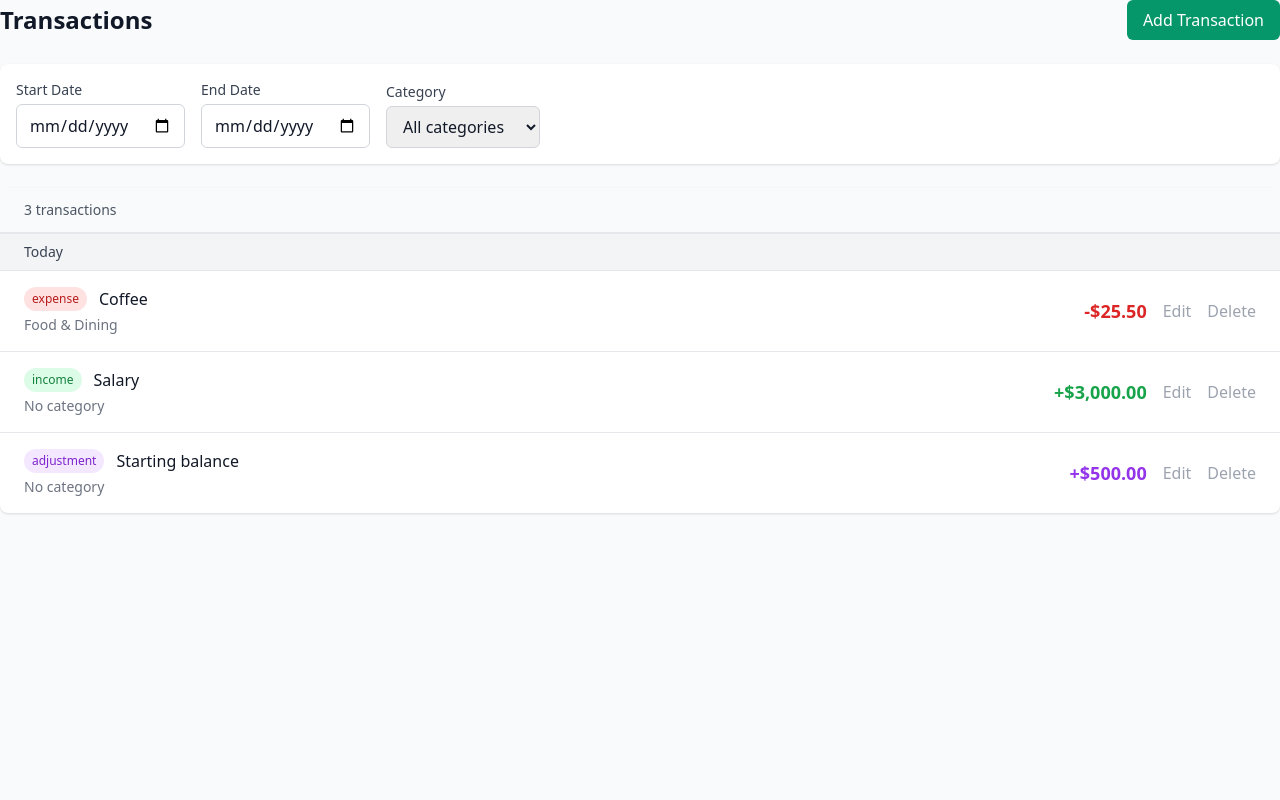
Test: TransactionsPage › opens add transaction form when clicking add button
Click the button "Add Transaction": [1203, 20] box [1127,0,1279,40]
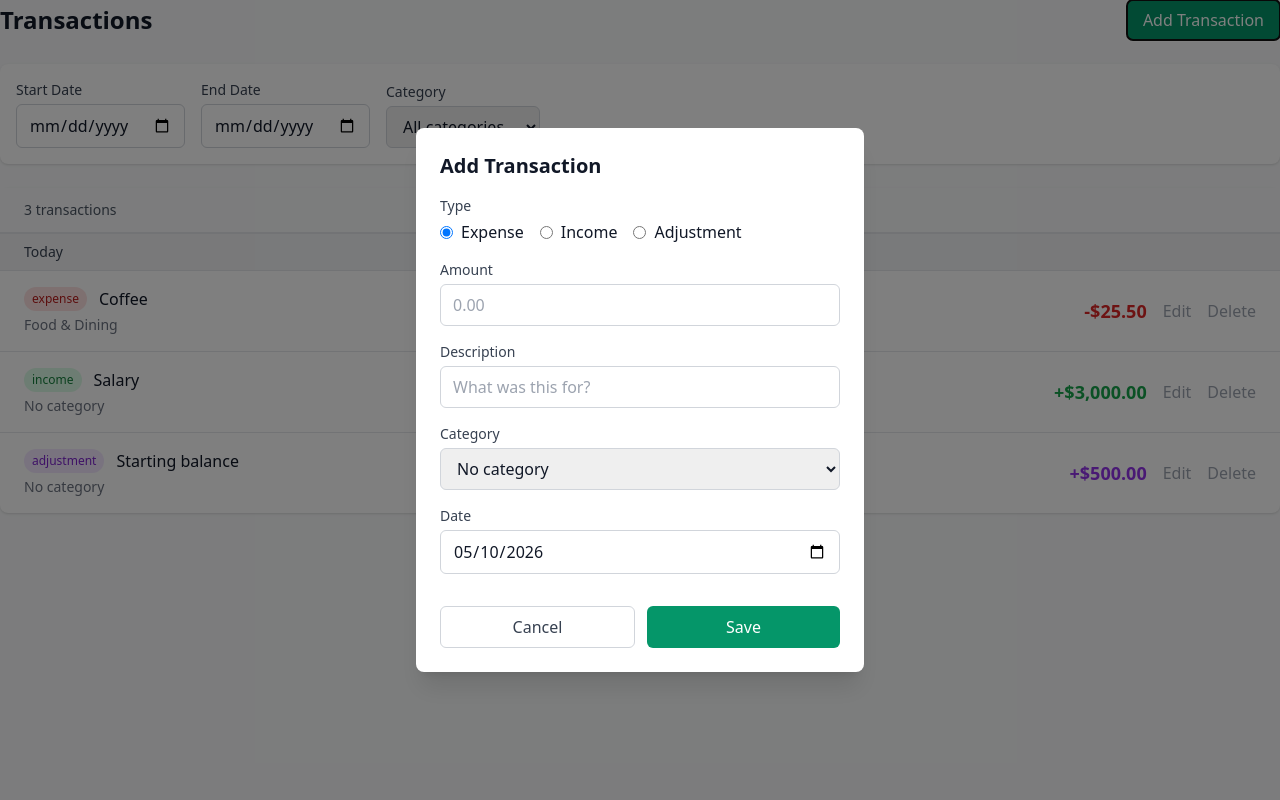
Check: the number field with placeholder "0.00" is shown, box [440,284,840,326]
Check: the field with placeholder "What was this for?" is shown, box [440,366,840,408]
Check: the button "Save" is shown, box [647,606,840,648]
